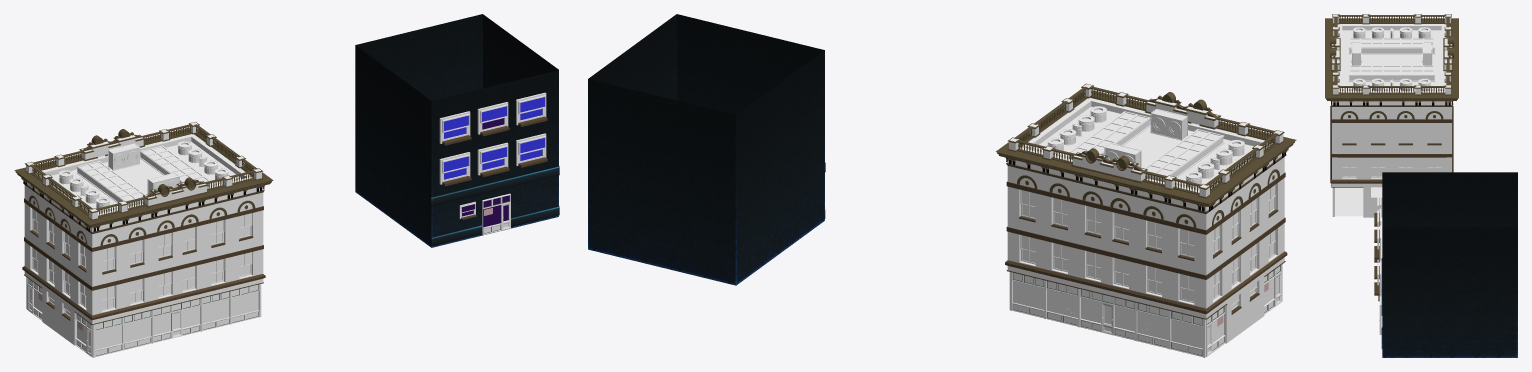
Rendered from JUIO.fbx.
3 views of the same model, side by side, from view 1: azimuth 30°, elevation 25°; view 2: azimuth 150°, elevation 25°; view 3: azimuth 270°, elevation 25° (orthographic). The views are drawn at different scales.
Visible parts, largest first — view 1: Building 121-15_001, Building1; view 2: Building 121-15_001, Building1; view 3: Building1, Building 121-15_001.
Part boxes in pixels (left/top/right/bottom): Building 121-15_001: left=14, top=121, right=273, bottom=357; Building1: left=355, top=14, right=559, bottom=247; Building 121-15_001: left=996, top=83, right=1296, bottom=357; Building1: left=588, top=14, right=825, bottom=285; Building1: left=1374, top=172, right=1517, bottom=357; Building 121-15_001: left=1325, top=14, right=1458, bottom=217.
Size of the model in its own units: 3575 by 1056 by 1338.
Materials: 14 (1 with a texture image).
